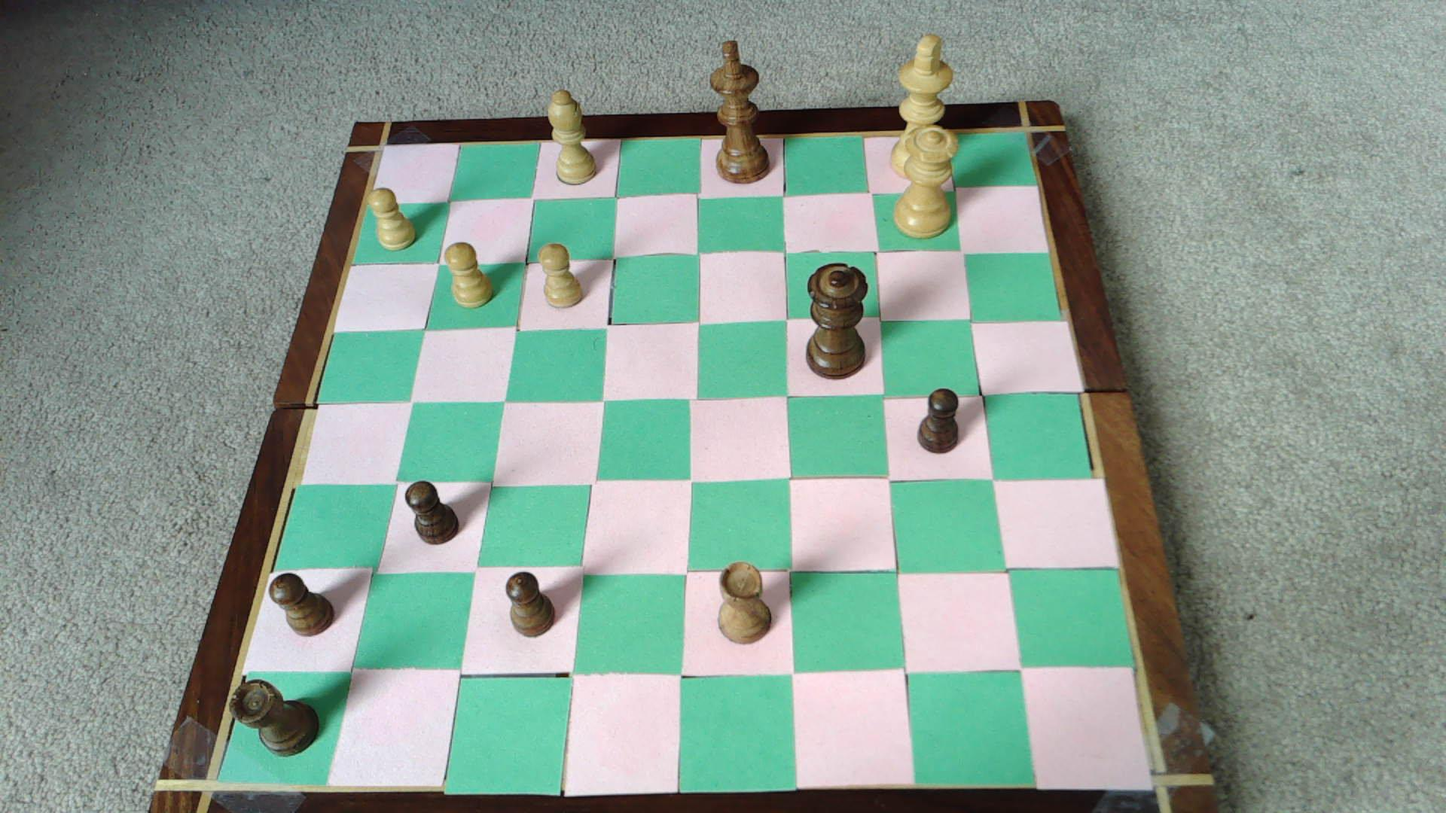dark_piece: (710, 37, 769, 183), (807, 264, 867, 378), (232, 680, 319, 754), (718, 561, 770, 643), (269, 572, 334, 635), (406, 481, 459, 543), (506, 572, 555, 636), (918, 388, 959, 452)
white_piece: (891, 34, 955, 179), (893, 128, 959, 237), (547, 90, 598, 184), (445, 243, 494, 307), (369, 188, 416, 250), (539, 243, 584, 307)
